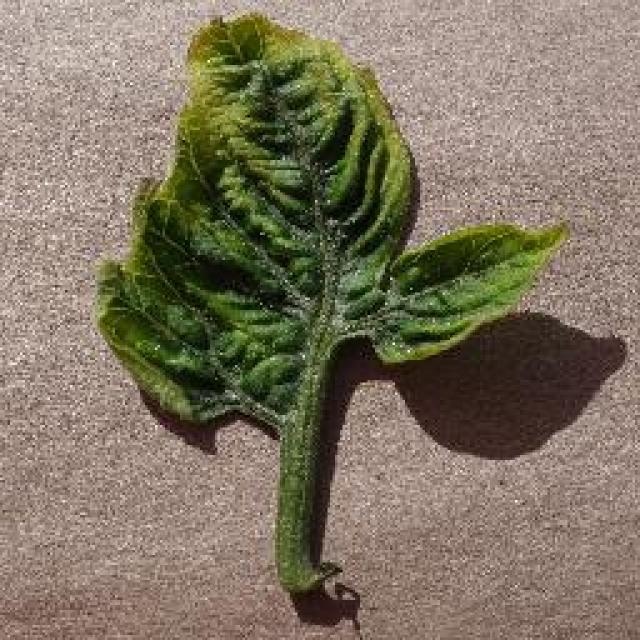Tom_Yellow_Leaf_Curl_Virus: (120, 39, 495, 411)
